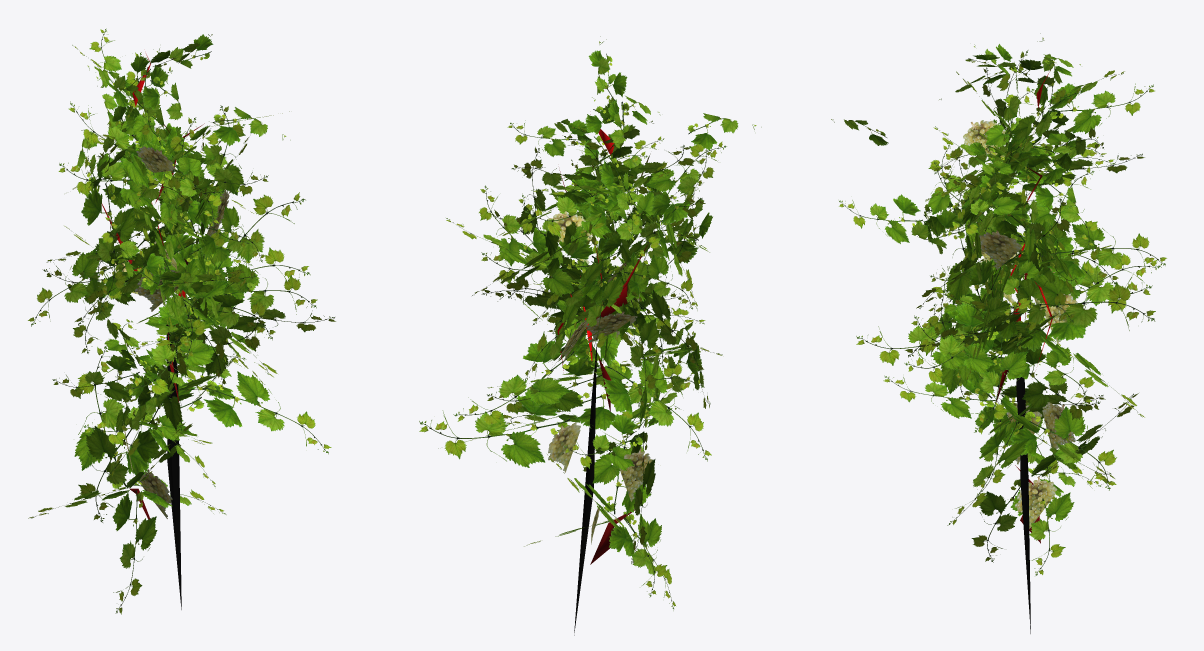
Rendered from grape2 lod2.FBX.
3 views of the same model, side by side, from view 1: azimuth 30°, elevation 25°; view 2: azimuth 150°, elevation 25°; view 3: azimuth 270°, elevation 25° (orthographic). The views are drawn at different scales.
Visible parts, largest first — view 1: grape004; view 2: grape004; view 3: grape004.
Part boxes in pixels (x1,y1,x2,y2): grape004: [28, 28, 335, 614]; grape004: [419, 36, 761, 635]; grape004: [831, 33, 1166, 633].
Bounding box in the file's own units: 24911 × 48970 × 27420.
